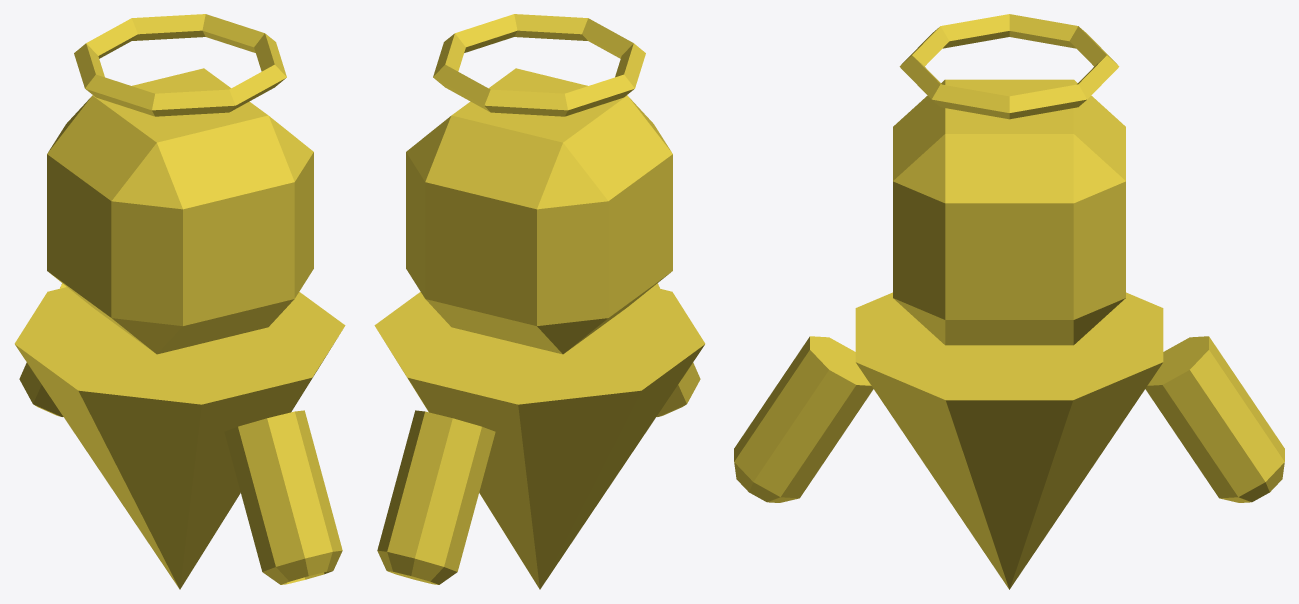
The model's file is YellowPlayer.glb.
The picture shows the model from 3 angles, left to right: view 1: azimuth 30°, elevation 25°; view 2: azimuth 150°, elevation 25°; view 3: azimuth 270°, elevation 25°; orthographic projection.
Parts seen in each view (by area): view 1: Head, Body, Right Arm, Torus.001, Left Arm; view 2: Head, Body, Left Arm, Torus.001, Right Arm; view 3: Head, Body, Left Arm, Right Arm, Torus.001.
Boxes of the visible parts, x1,y1,x2,y2 form: Head: (47,68,313,354); Body: (14,287,345,589); Right Arm: (224,410,342,584); Torus.001: (74,14,286,116); Left Arm: (19,283,66,416); Head: (406,68,672,354); Body: (374,287,705,589); Left Arm: (377,410,495,584); Torus.001: (433,14,645,116); Right Arm: (653,283,700,416); Head: (893,79,1125,345); Body: (855,292,1163,589); Left Arm: (1145,336,1284,502); Right Arm: (734,336,873,502); Torus.001: (899,14,1119,119).
Size of the model in its own units: 1.85 by 3.54 by 3.3.
